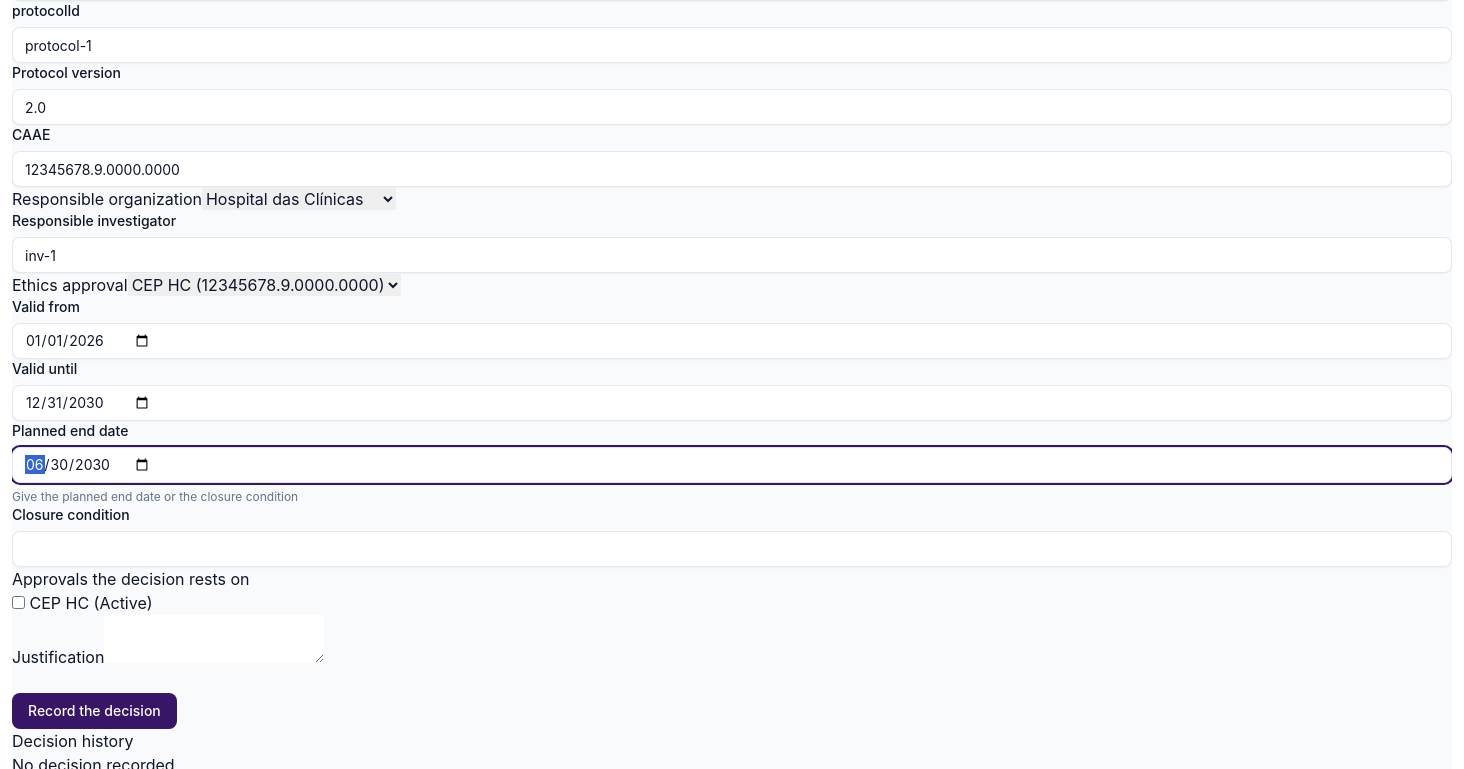
CollectionGovernancePanel › records the first biorepository context from every field and resets the decision form
The image size is (1464, 769).
Earlier steps of the test are not shown.
(page scrolled)
Click the field with test id "governance-context-closure-condition-input" at coordinates (732, 549), box [12,531,1452,567]
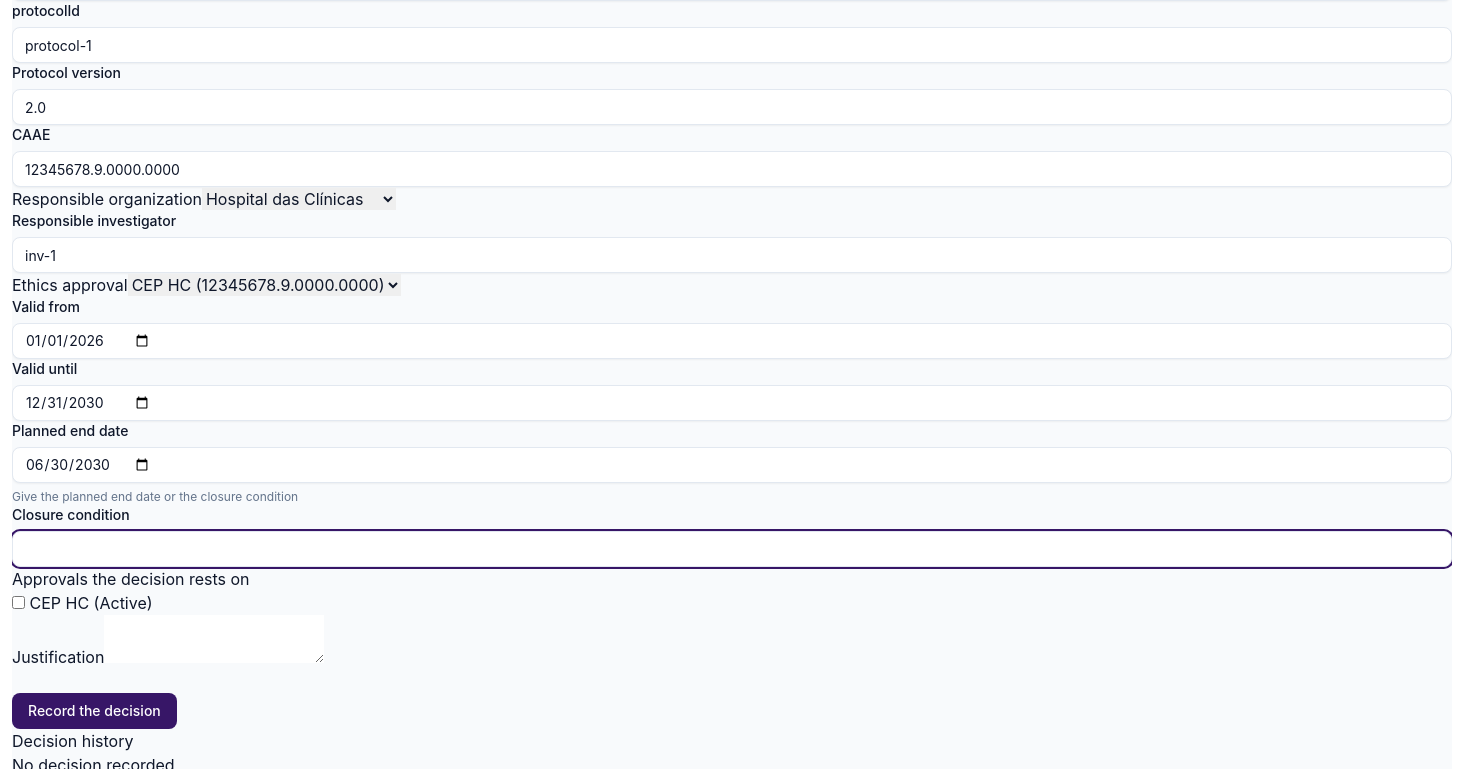
Type keys "Fim do recrutamento"
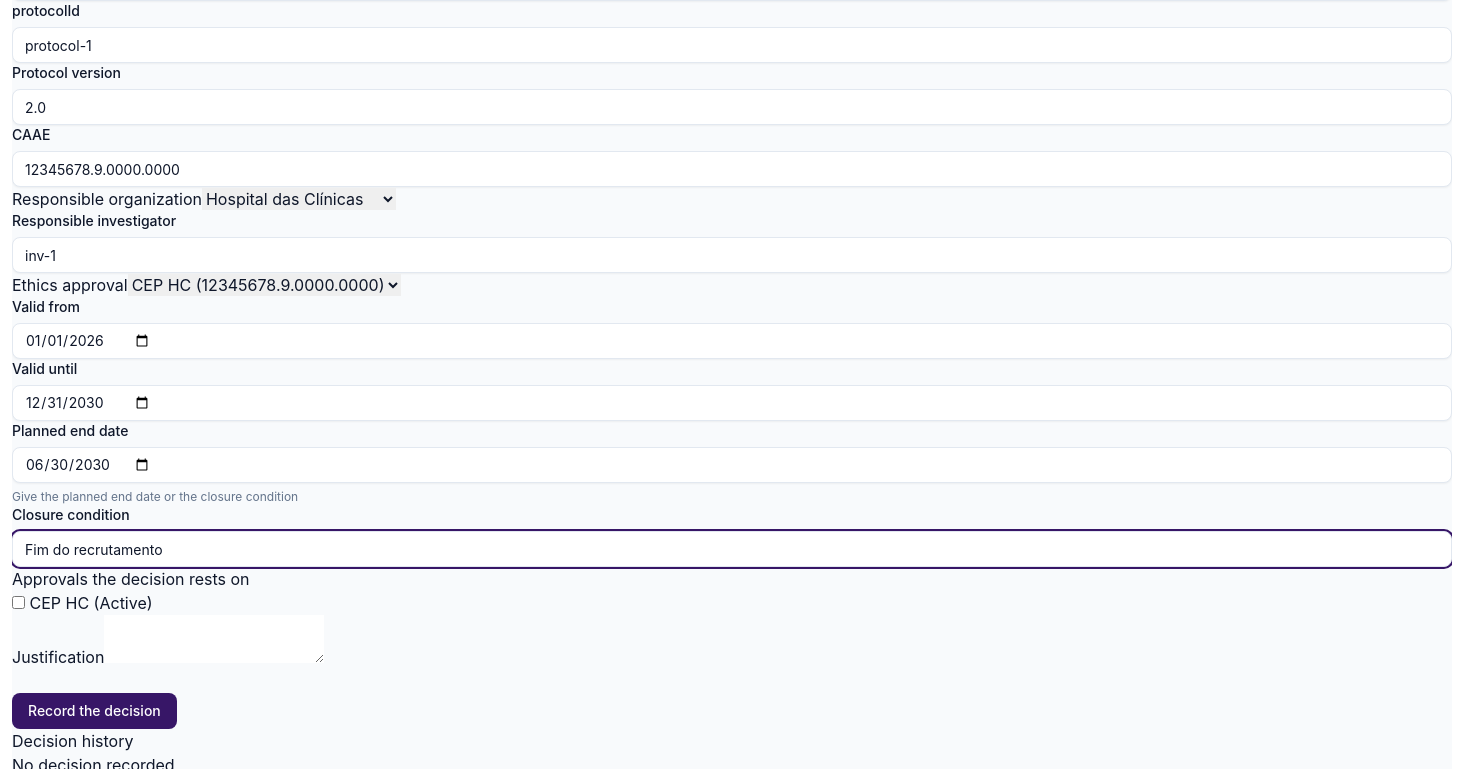
Click the checkbox with test id "governance-event-approval-ap-1" at coordinates (18, 602), box [12,596,25,609]
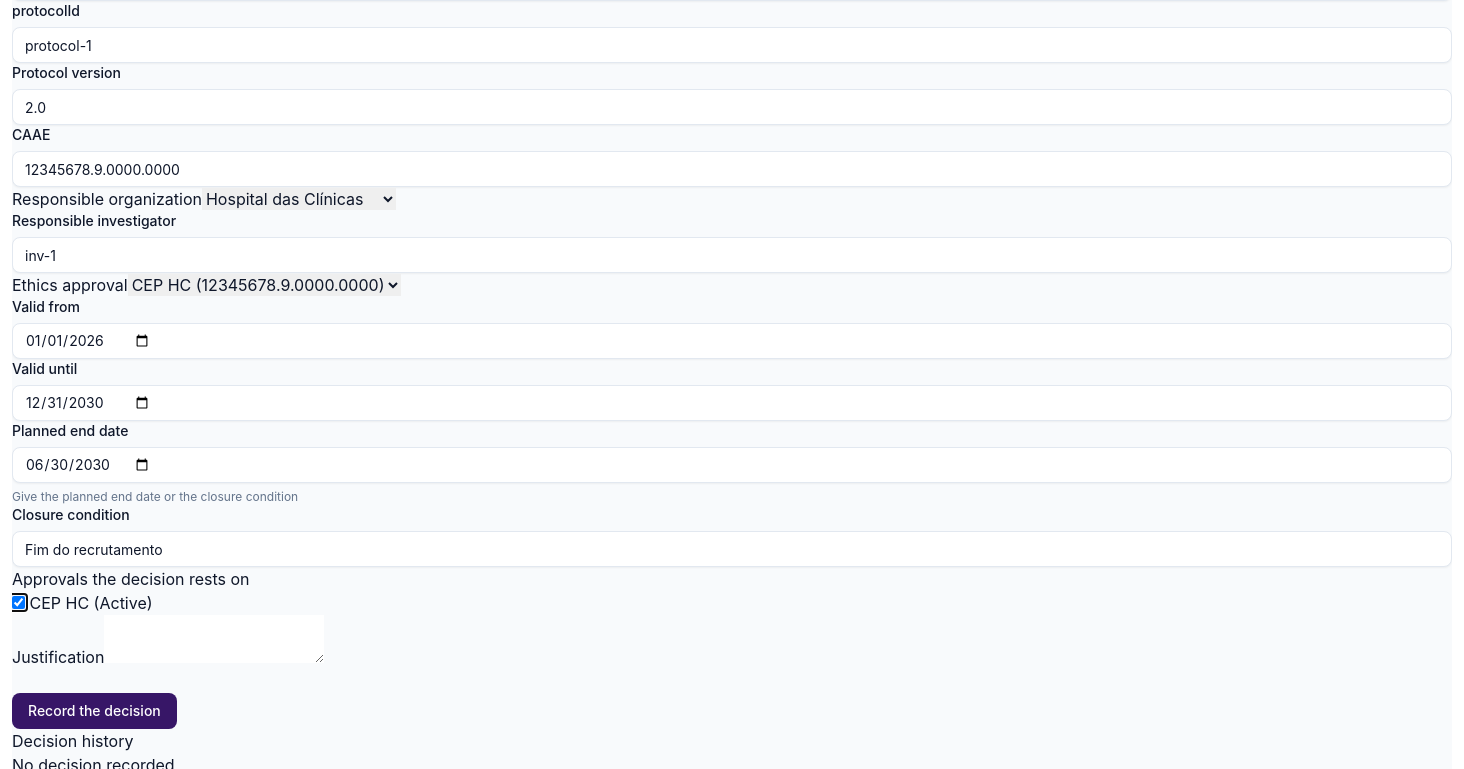
Click the text box with test id "governance-event-justification-input" at coordinates (214, 639), box [104,615,324,663]
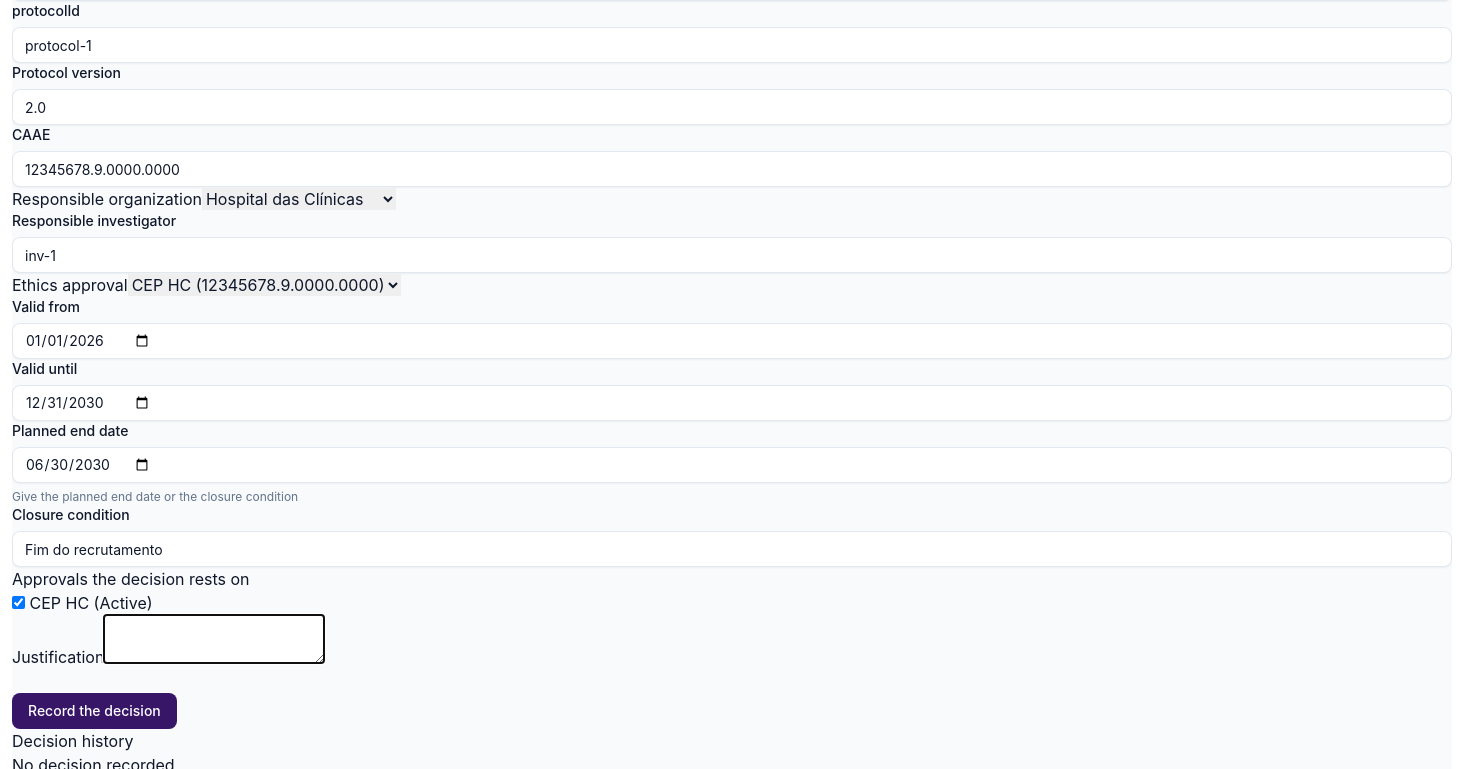
Type keys "Contexto inicial"
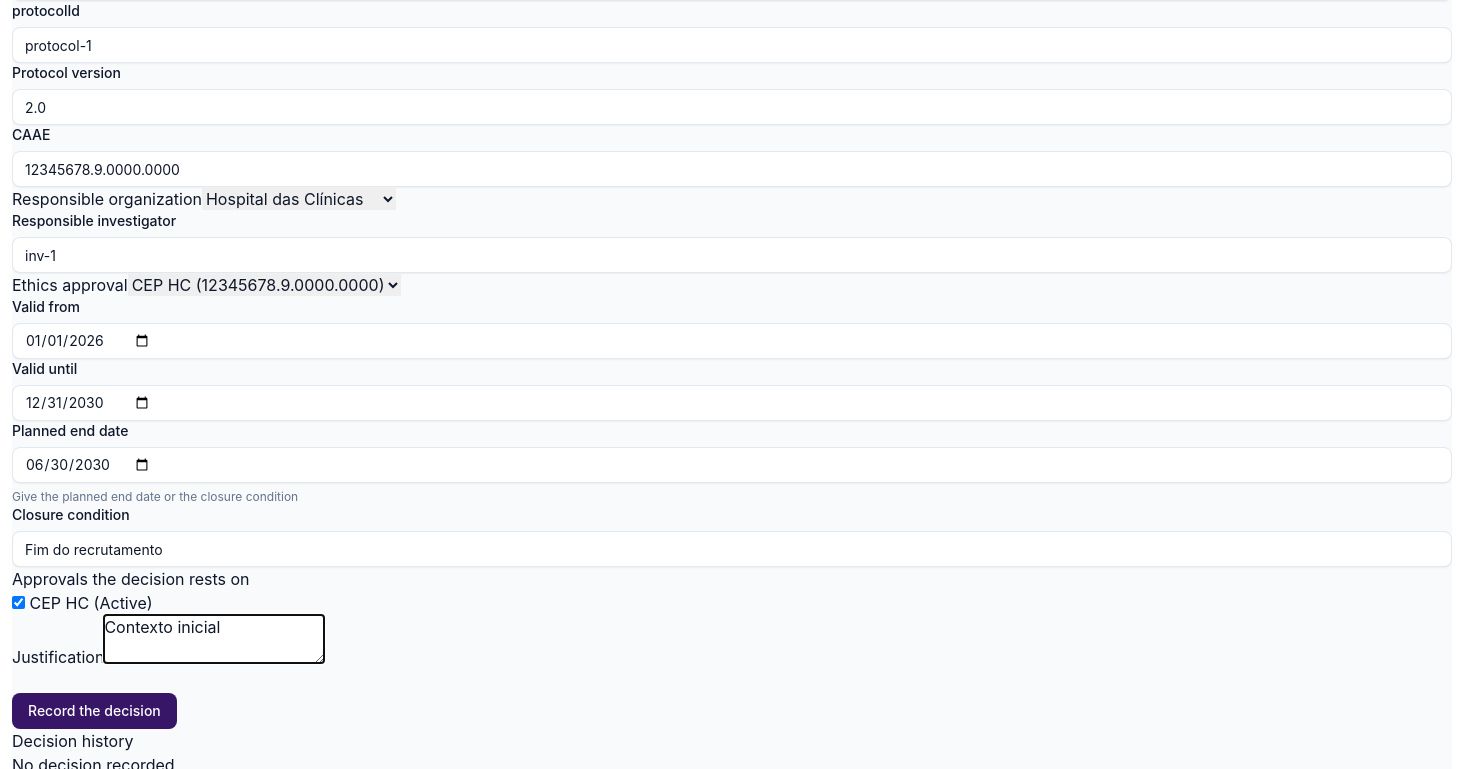
Click the button with test id "governance-event-submit" at coordinates (94, 711), box [12,693,177,729]
(page scrolled)
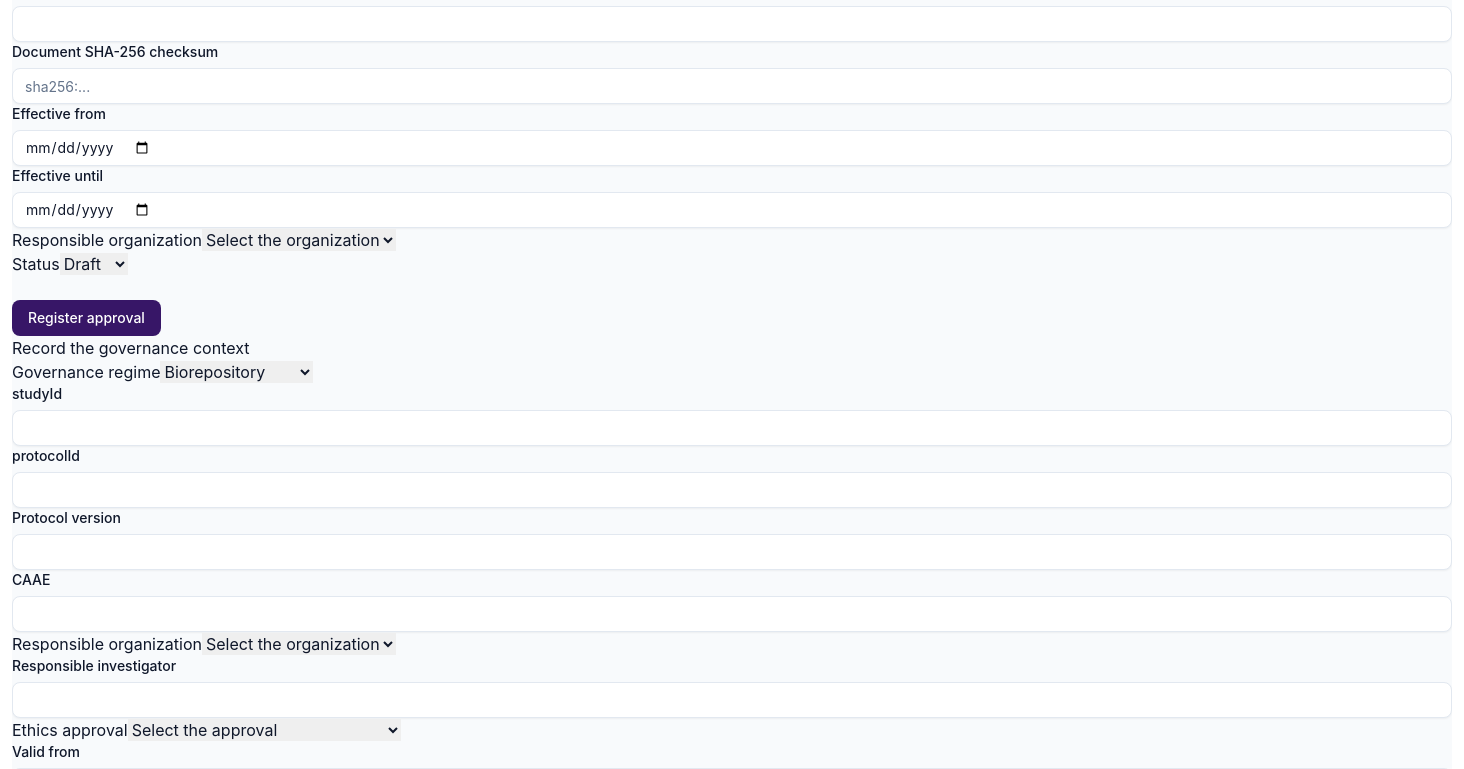
Expected: the dropdown with test id "governance-event-regime-select" shows "Biorepository", [160,361,314,383]
Expected: the field with test id "governance-context-study-input" is empty, [12,410,1452,446]
